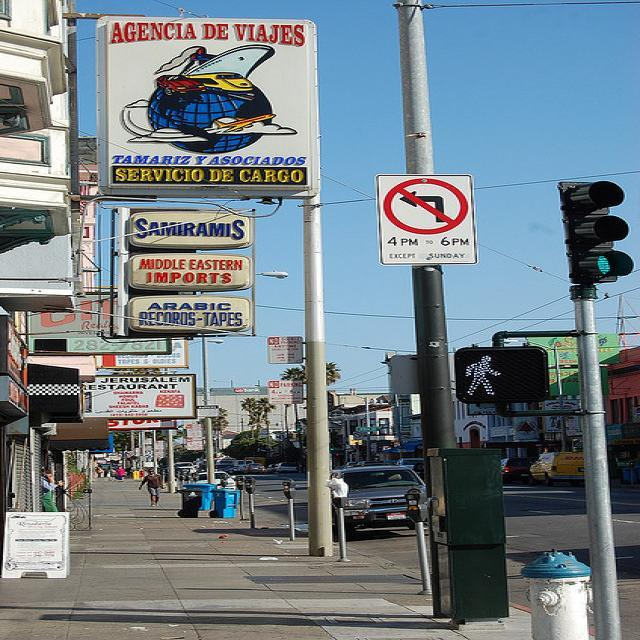fire_hydrant: (522, 548, 596, 639)
